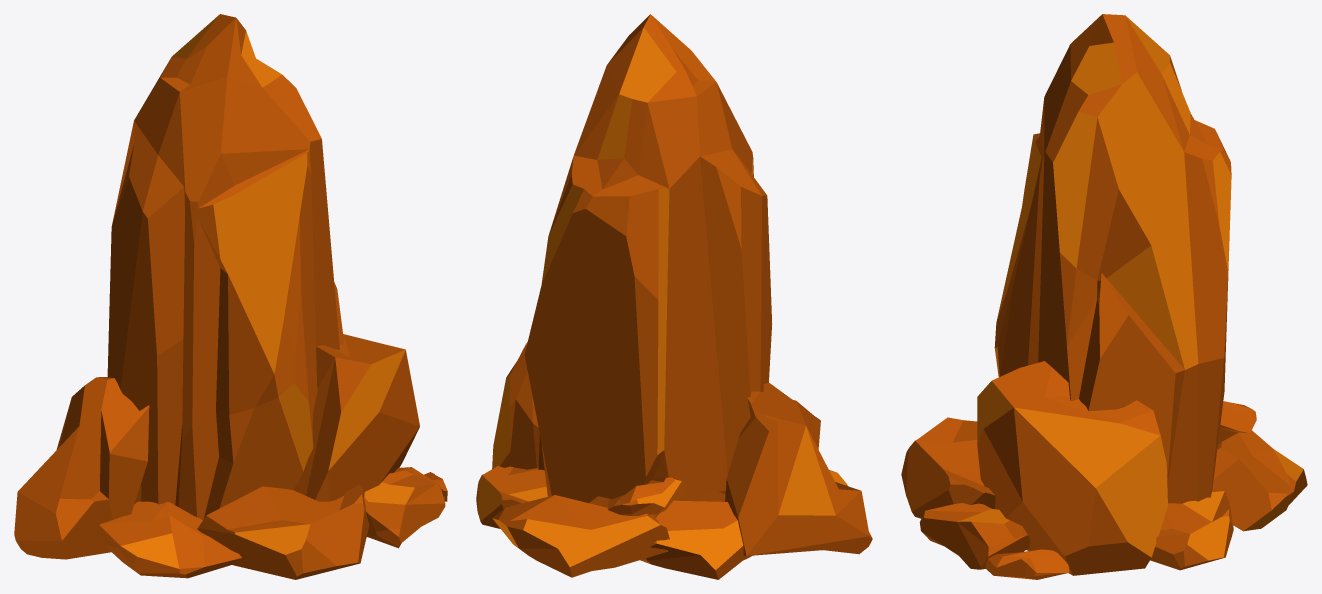
File: stone2.fbx
The picture shows the model from 3 angles, left to right: view 1: azimuth 30°, elevation 25°; view 2: azimuth 150°, elevation 25°; view 3: azimuth 270°, elevation 25°; orthographic projection.
Parts seen in each view (by area): view 1: Cube.037; view 2: Cube.037; view 3: Cube.037.
Part boxes in pixels (x1,y1,x2,y2): Cube.037: [14, 14, 447, 579]; Cube.037: [476, 14, 872, 579]; Cube.037: [901, 14, 1307, 579].
Bounding box in the file's own units: 413 × 510 × 377.
